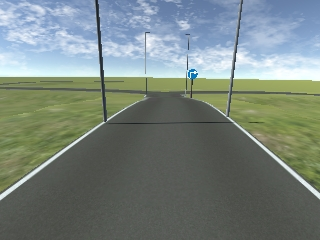right: (187, 69, 198, 79)
